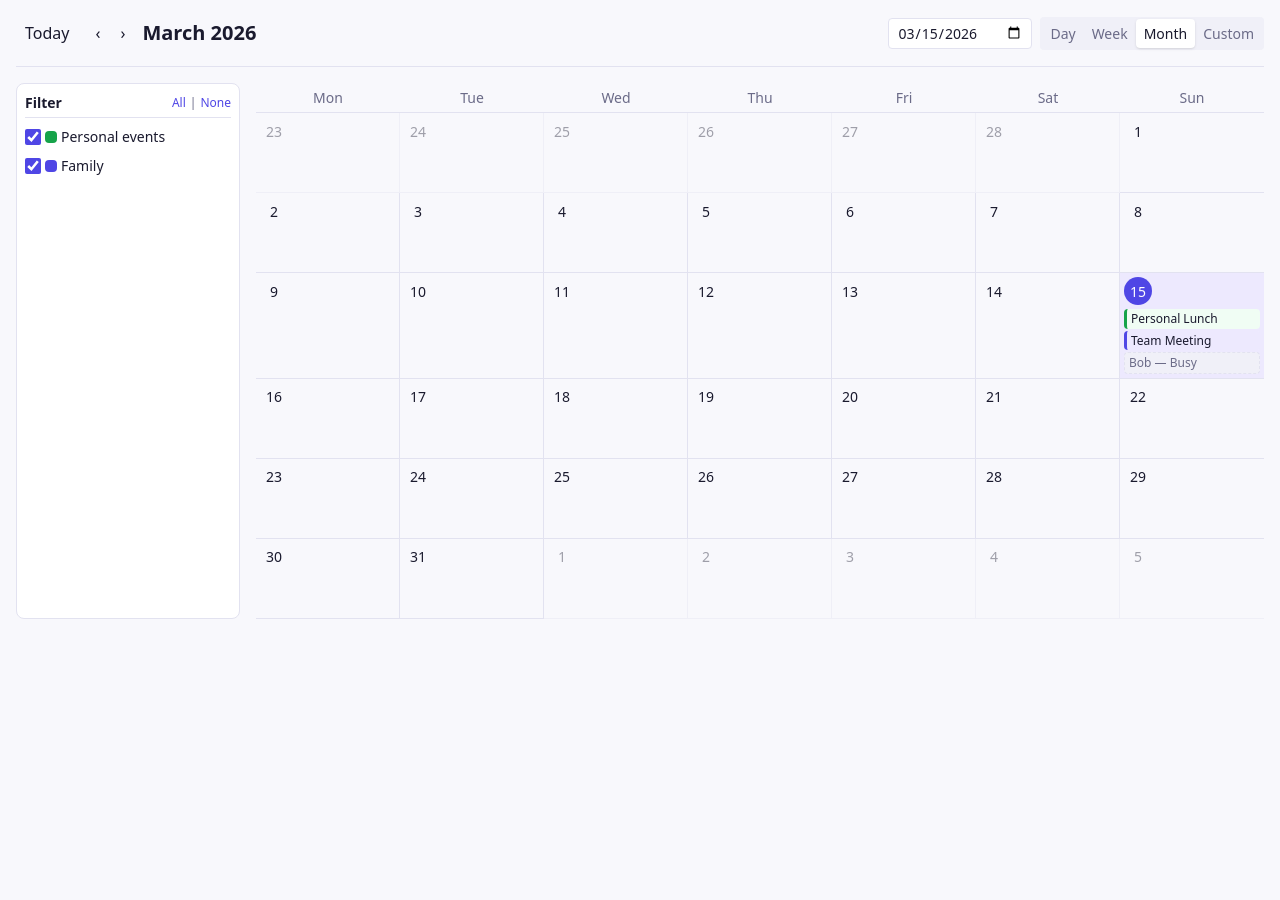
Scenario: Calendar page › hides group events when group toggle is unchecked
Expected: the text "Team Meeting" is shown, [1131, 332, 1211, 349]
Click the checkbox labelled "Family": (33, 166) [25, 158, 41, 174]
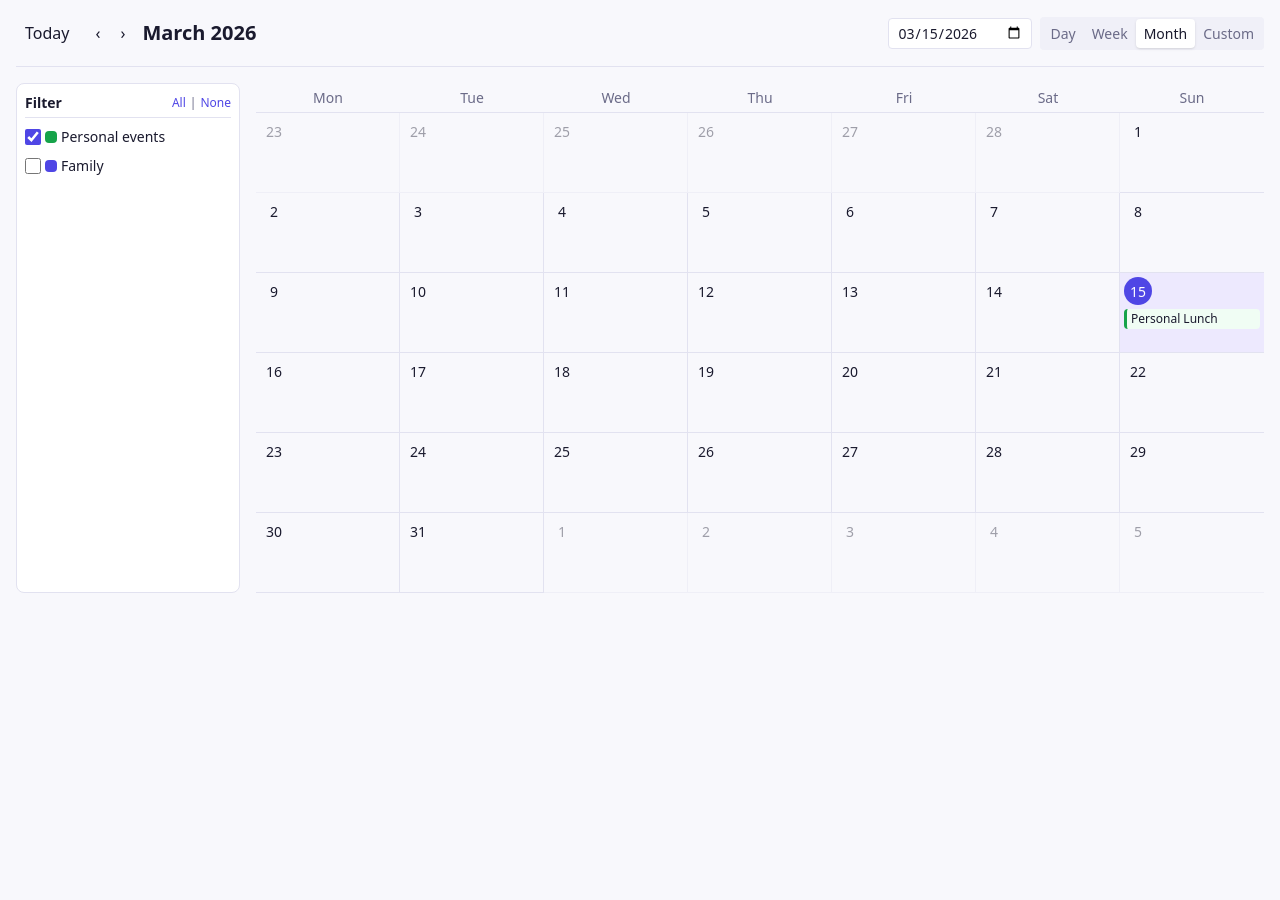
Expected: the text "Personal Lunch" is shown, [1131, 310, 1218, 327]
Now the button "Team Meeting" is gone
Now the text "Bob — Busy" is gone
